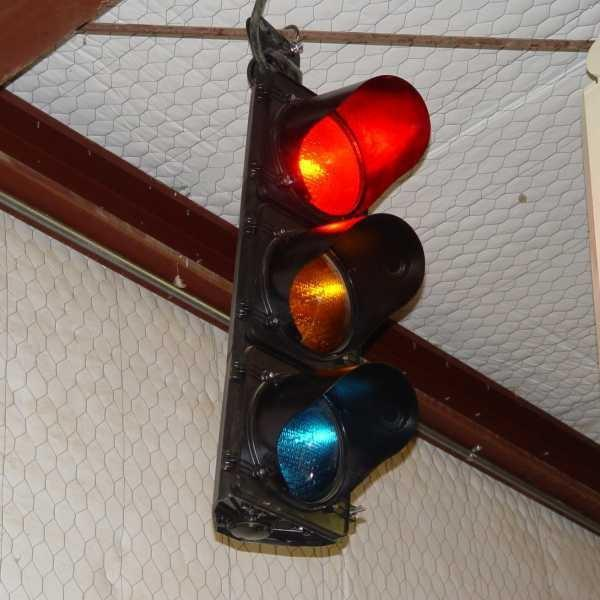green: (231, 352, 421, 552)
red: (245, 67, 443, 216)
